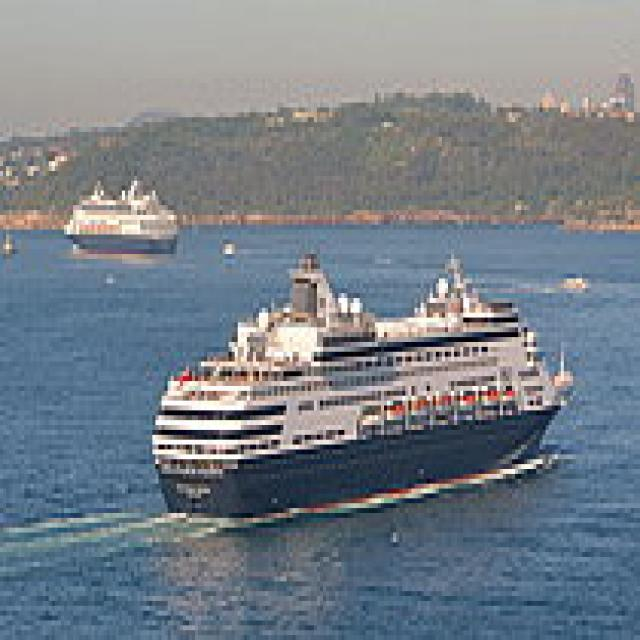Ship: (147, 246, 577, 534), (62, 172, 184, 270)
